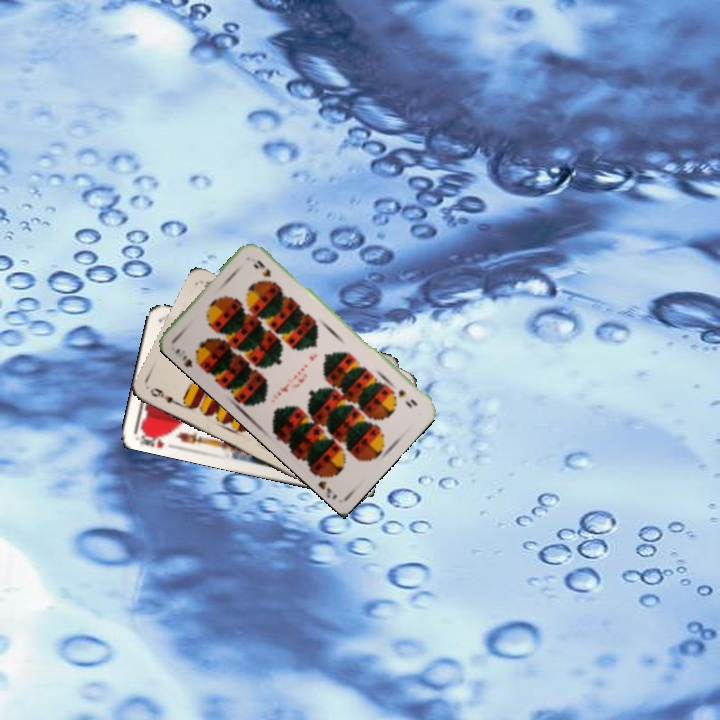E9: (146, 383, 184, 409)
HK: (136, 426, 171, 451)
S9: (171, 345, 206, 370), (394, 385, 420, 409)
